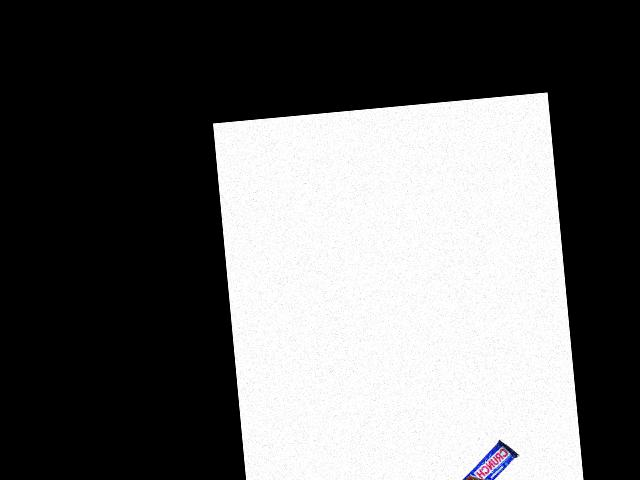chocolate: (452, 437, 524, 480)
